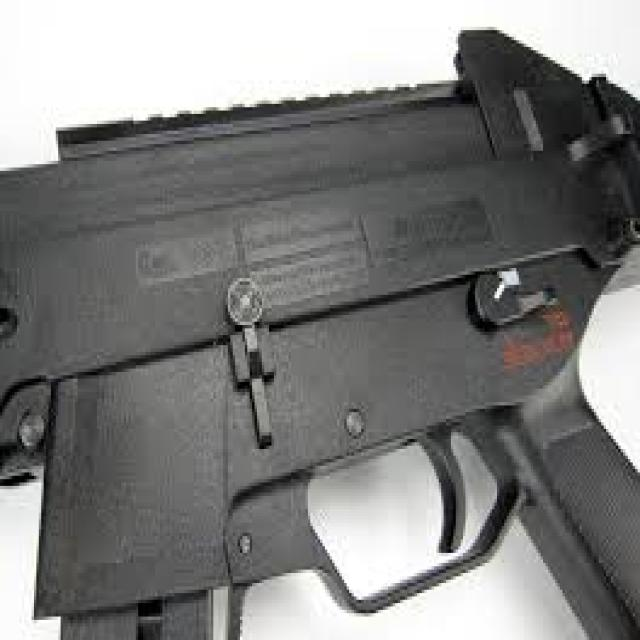Gun: (0, 67, 640, 640)
